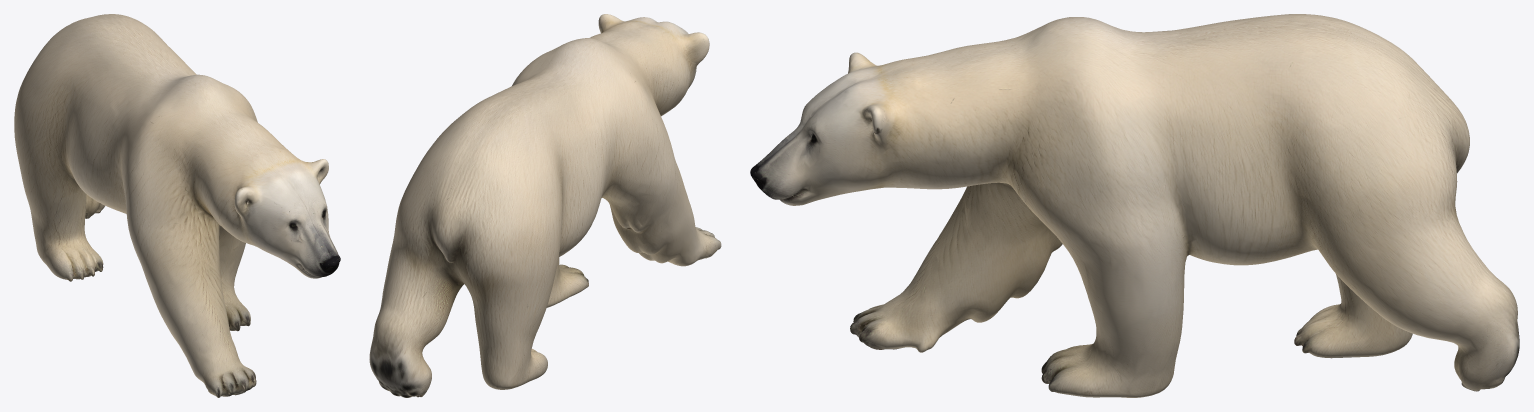
The model's file is oso_polar.glb.
The picture shows the model from 3 angles, left to right: view 1: azimuth 30°, elevation 25°; view 2: azimuth 150°, elevation 25°; view 3: azimuth 270°, elevation 25°; orthographic projection. The views are drawn at different scales.
Parts seen in each view (by area): view 1: Mesh_0; view 2: Mesh_0; view 3: Mesh_0.
Part boxes in pixels (box(x1,y1,x2,y2)): Mesh_0: box(14, 14, 340, 397); Mesh_0: box(369, 14, 721, 397); Mesh_0: box(750, 14, 1519, 397).
Size of the model in its own units: 0.5864 by 0.9527 by 1.9.
Materials: 1 (1 with a texture image).
